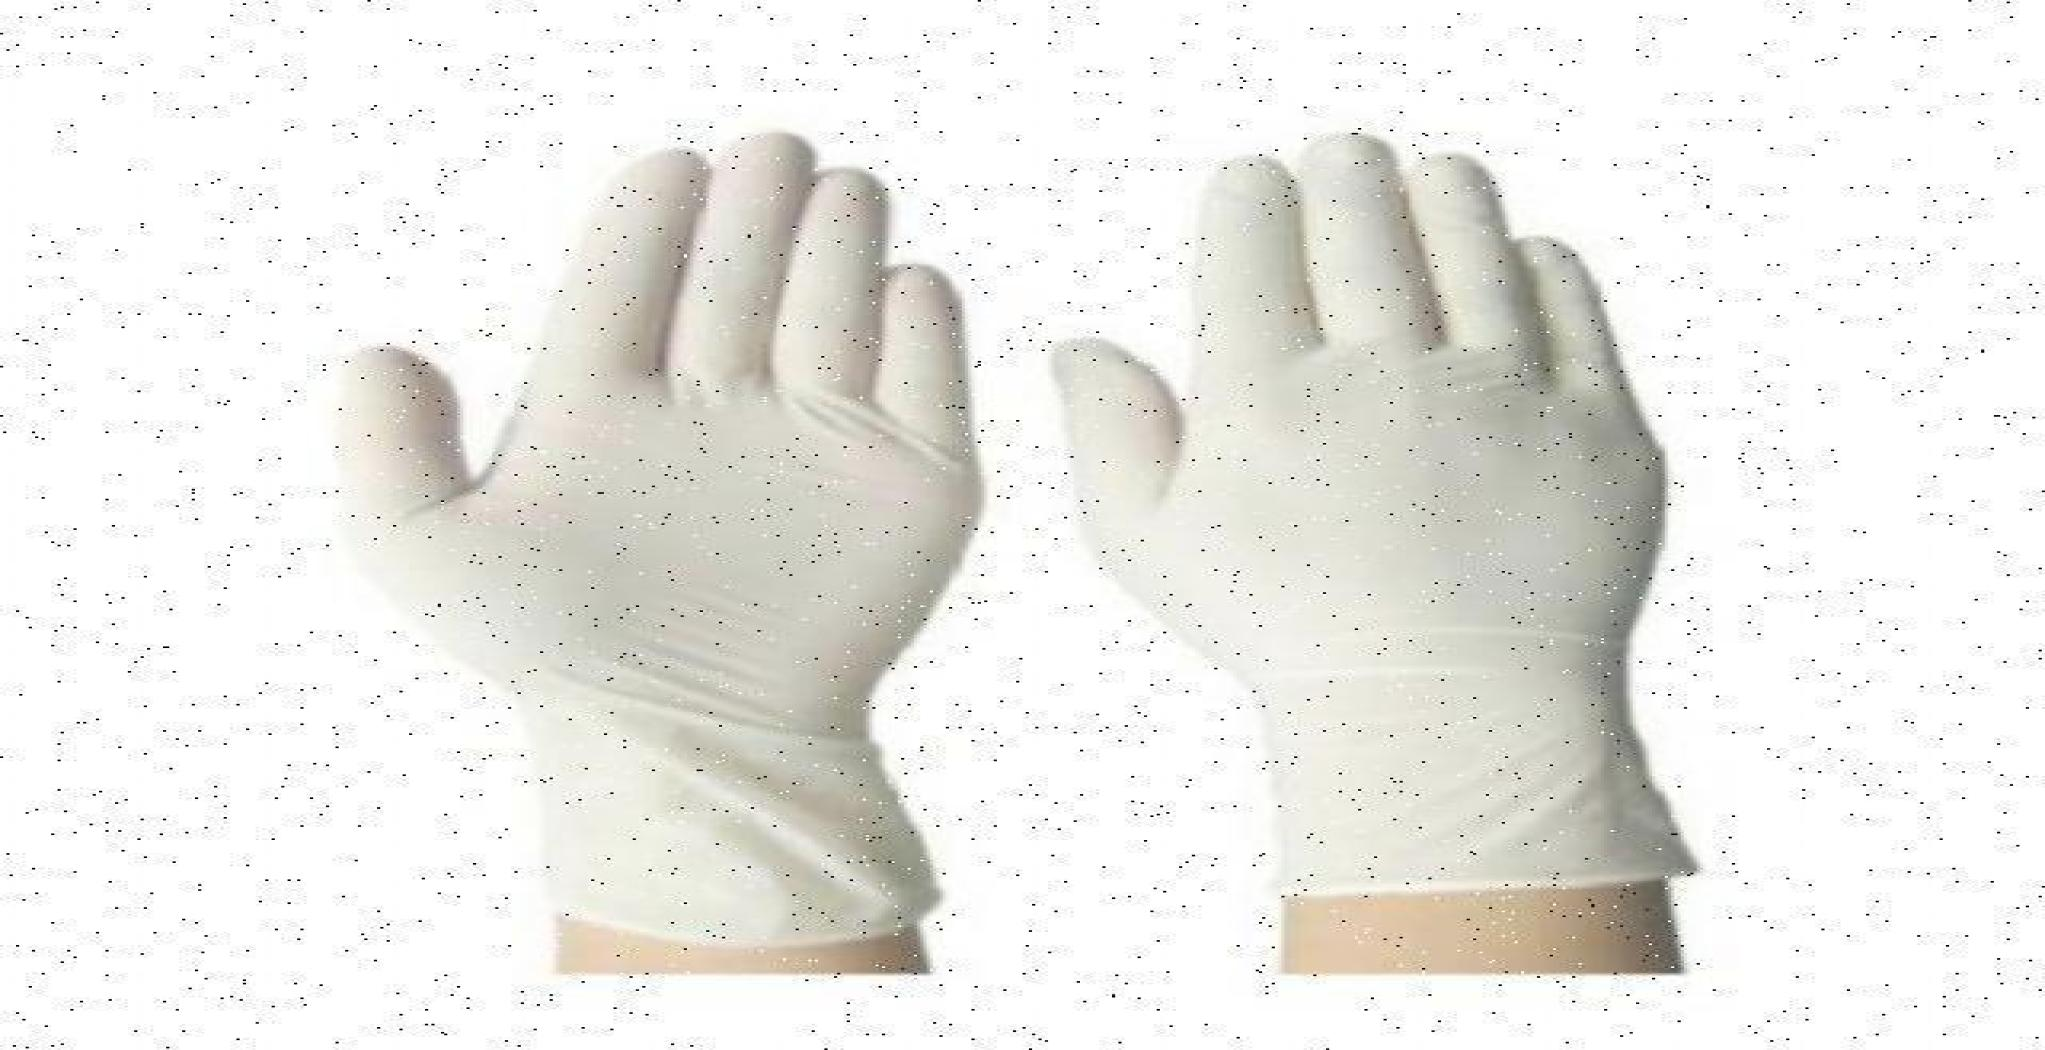gloved: (1045, 127, 1699, 974), (329, 129, 984, 974)
